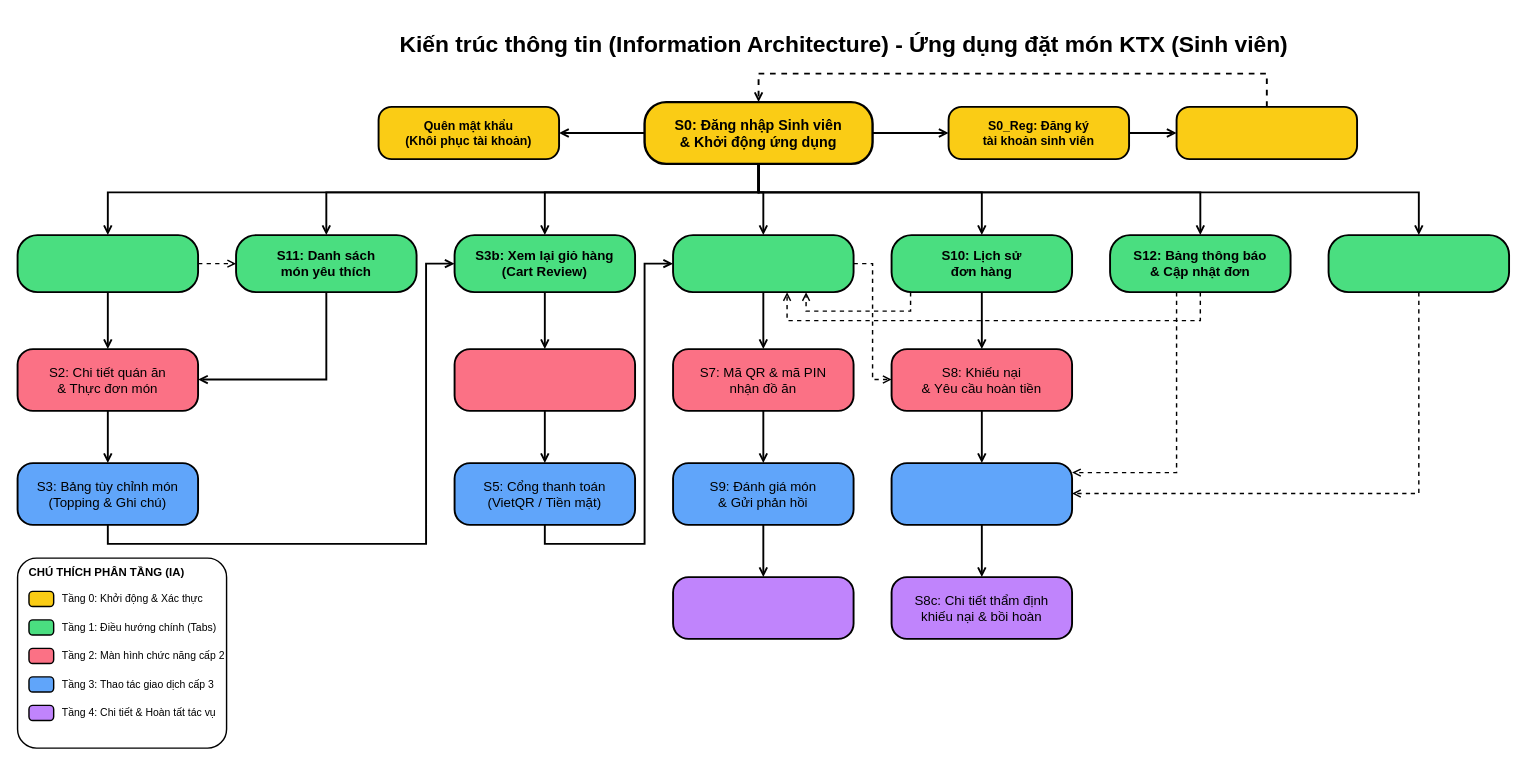
This 1526x765 diagram has some shape labels left out. The centre of each missing label's shape, as x and y in pixels:
"Hoàn tất đánh giá (Review Success)" goes at (763,607).
"S0_OTP: Xác thực mã OTP" goes at (1266,132).
"S13: Hồ sơ cá nhân & Cài đặt tài khoản" goes at (1418,263).
"S1: Trang chủ & Tìm kiếm món ăn" goes at (107,263).
"S4: Giỏ hàng nhóm & Xác nhận đặt đơn" goes at (544,379).
"S6: Theo dõi đơn hàng trực tiếp" goes at (763,263).
"S8b: Lịch sử khiếu nại & Xử lý hoàn tiền" goes at (981,493).
